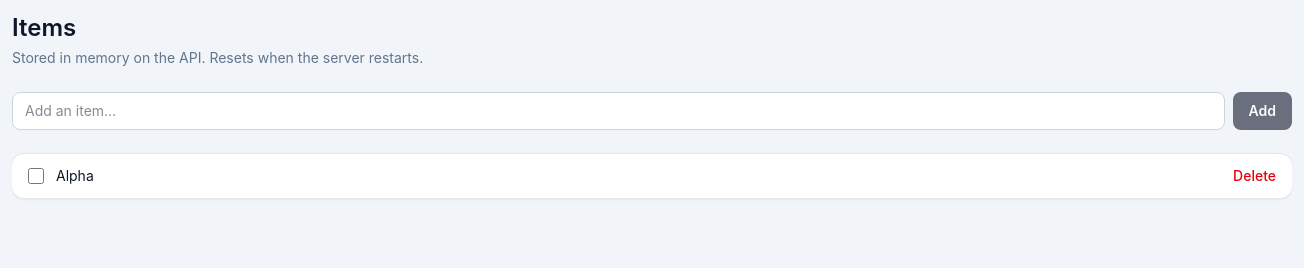
Scenario: ItemsView › adds an item and prepends it to the list
The image size is (1304, 268).
In the field with placeholder "Add an item…": (618, 111) 12,92 -> 1224,130, type "Beta"
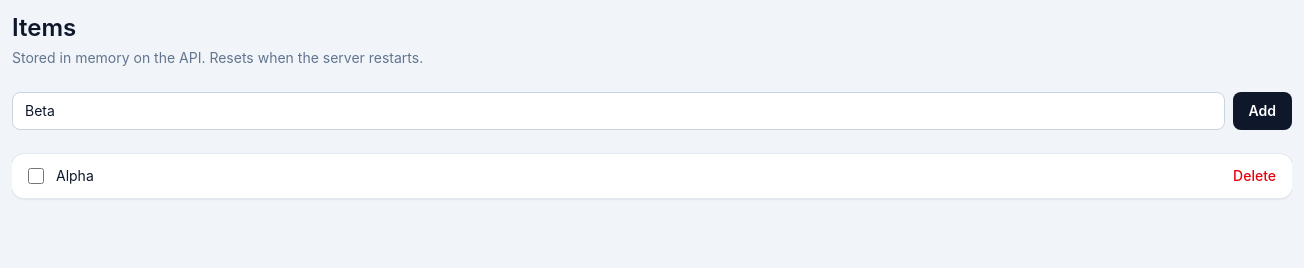
Submit the form, box 12,92 -> 1292,130
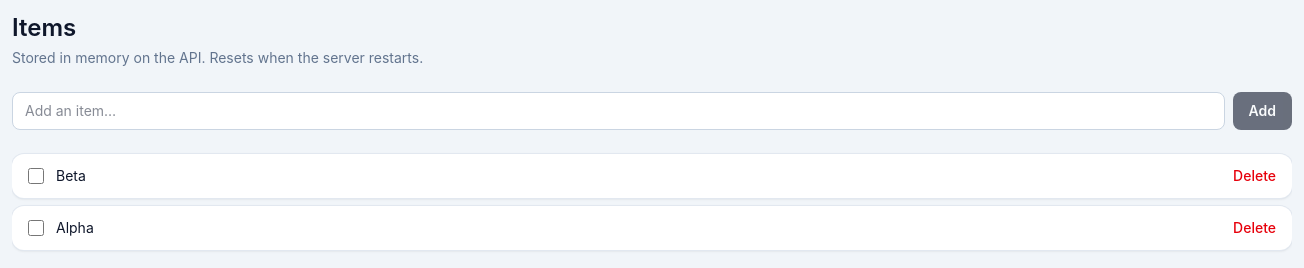
Now the text "Beta" is shown, box 56,167 -> 86,184
Now the field with placeholder "Add an item…" is empty, box 12,92 -> 1224,130
